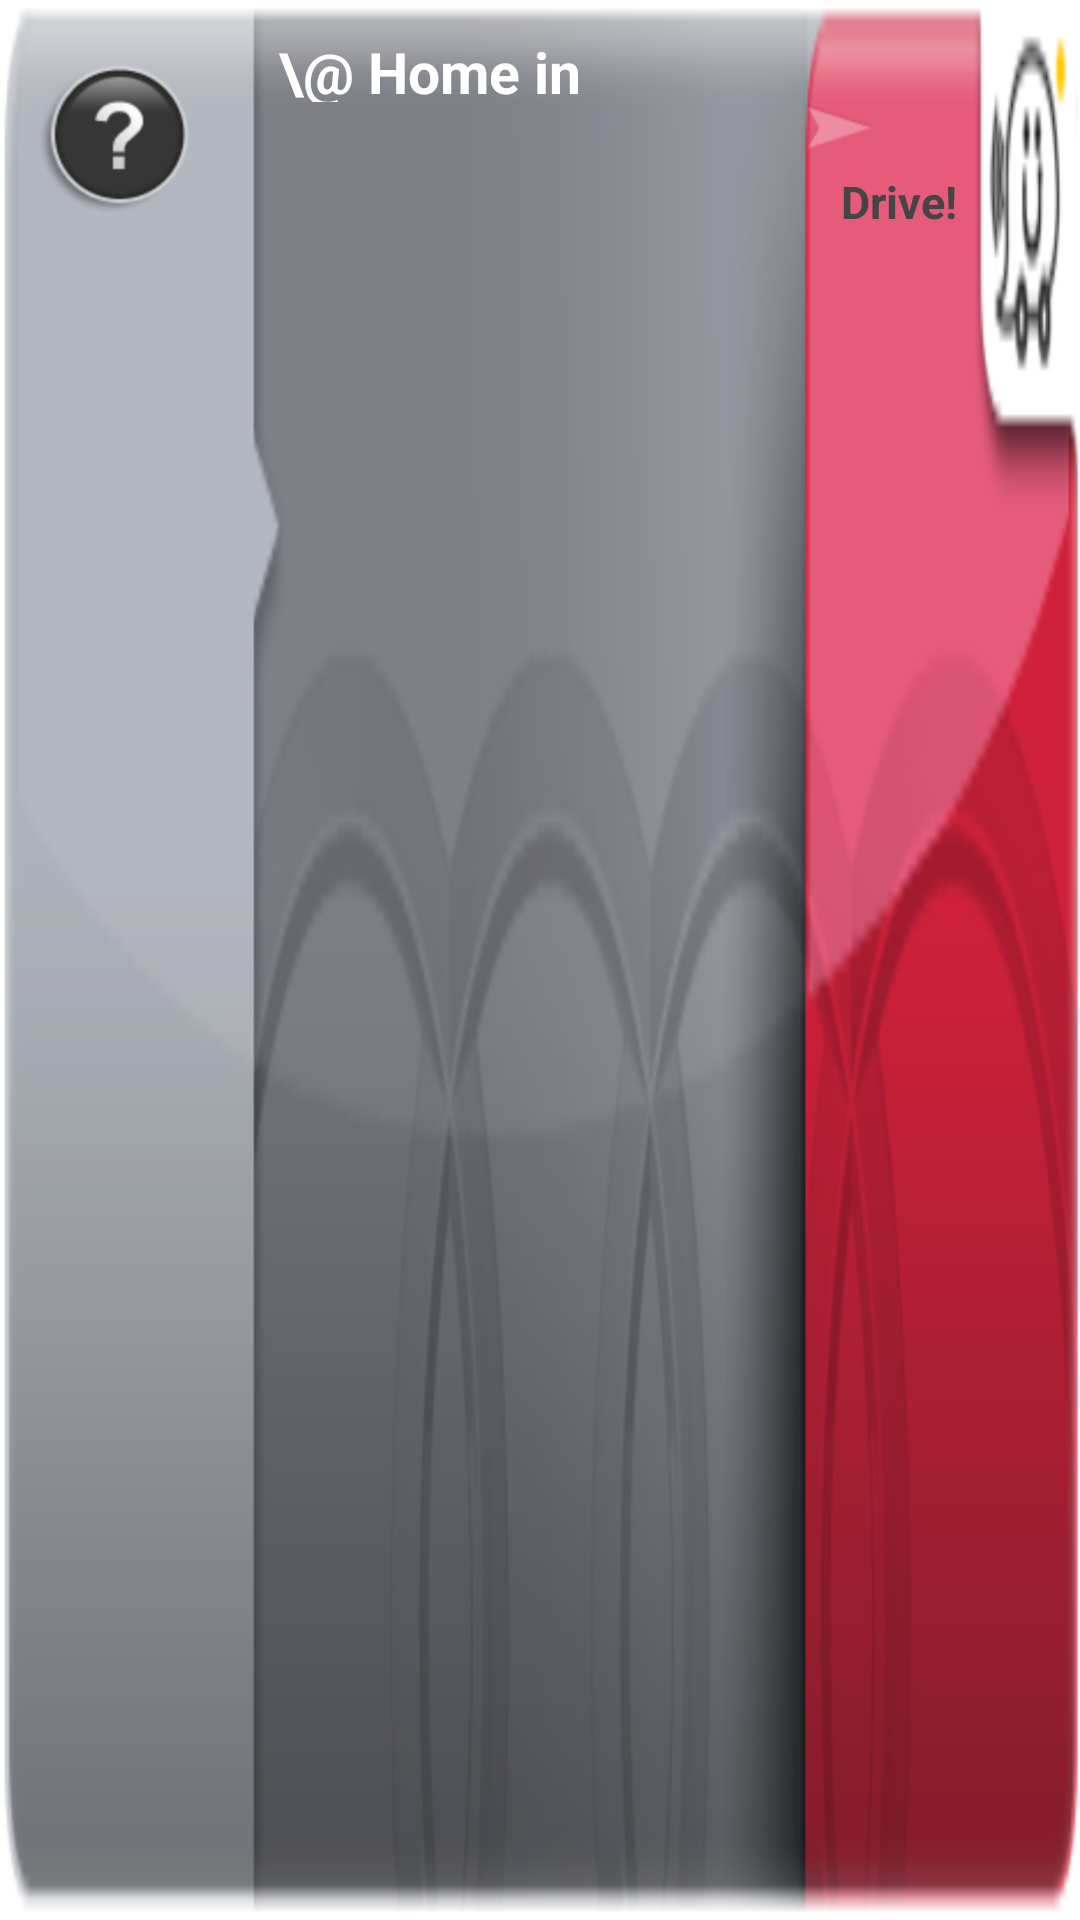

Named icons in this screenshot (1080w x 1920h) and their centers, (x,y):
widget no data: (115,137)
